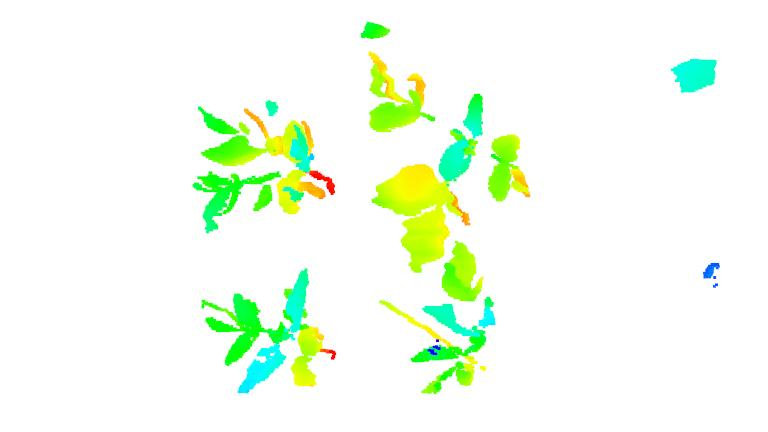mungbean: (353, 18, 538, 276), (189, 98, 337, 236), (202, 266, 336, 394), (411, 241, 499, 396)
